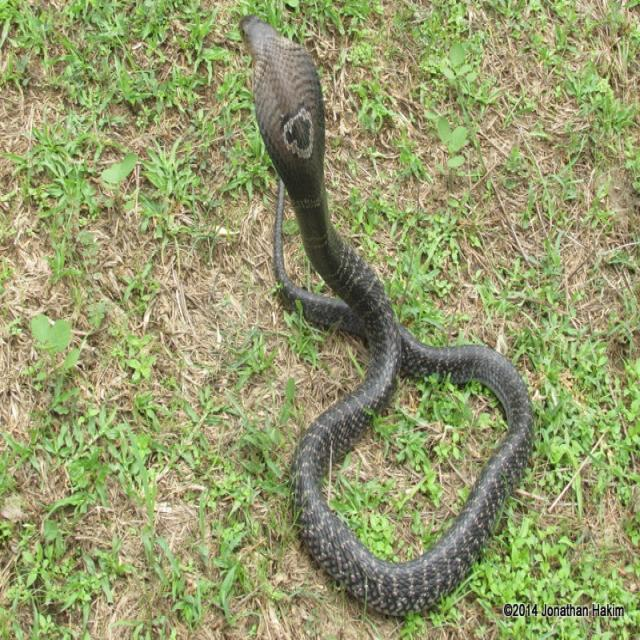Snake: (238, 11, 534, 618)
